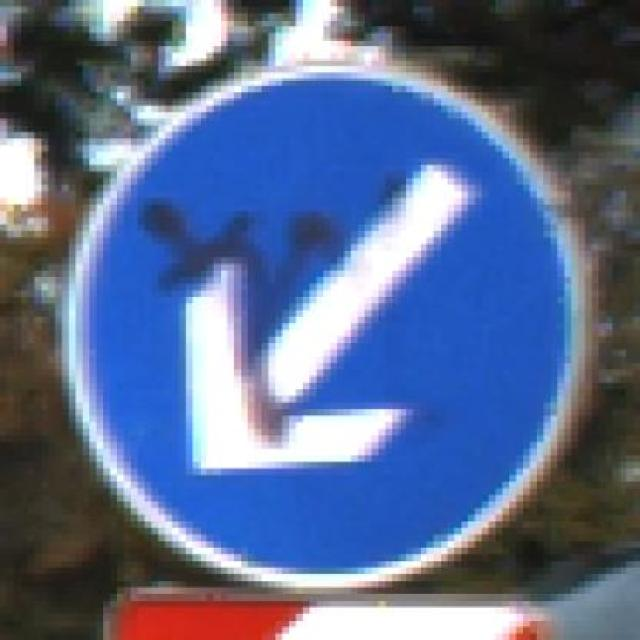Keep-Left: (55, 26, 613, 594)
